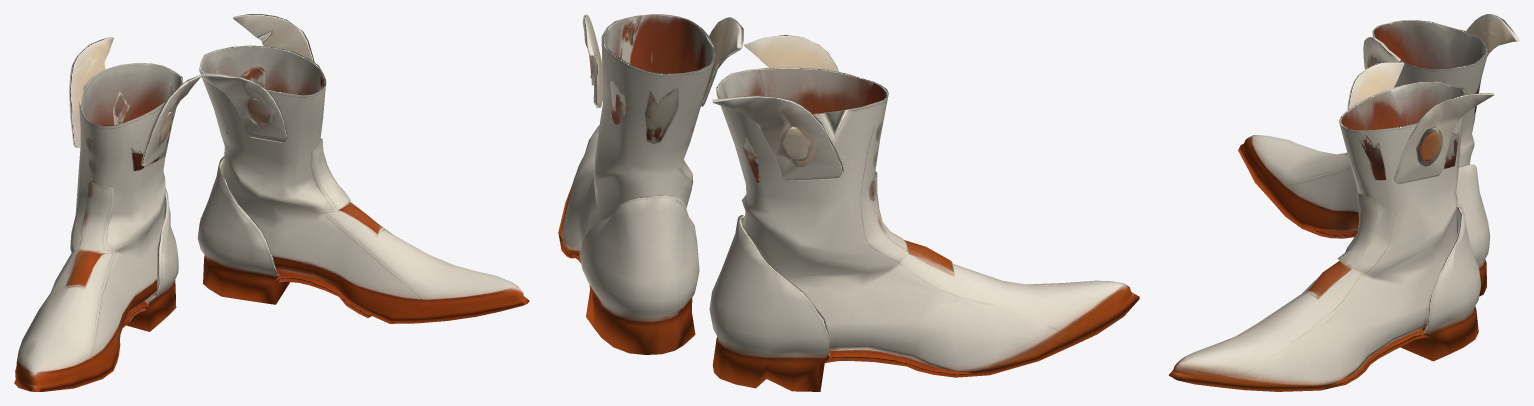
The model's file is windstep-boots_refine.glb.
3 renders of one model, left to right at view 1: azimuth 30°, elevation 25°; view 2: azimuth 150°, elevation 25°; view 3: azimuth 270°, elevation 25°, orthographic. The views are drawn at different scales.
Size of the model in its own units: 0.9521 by 0.4863 by 0.5972.
1 material, 1 textured.
